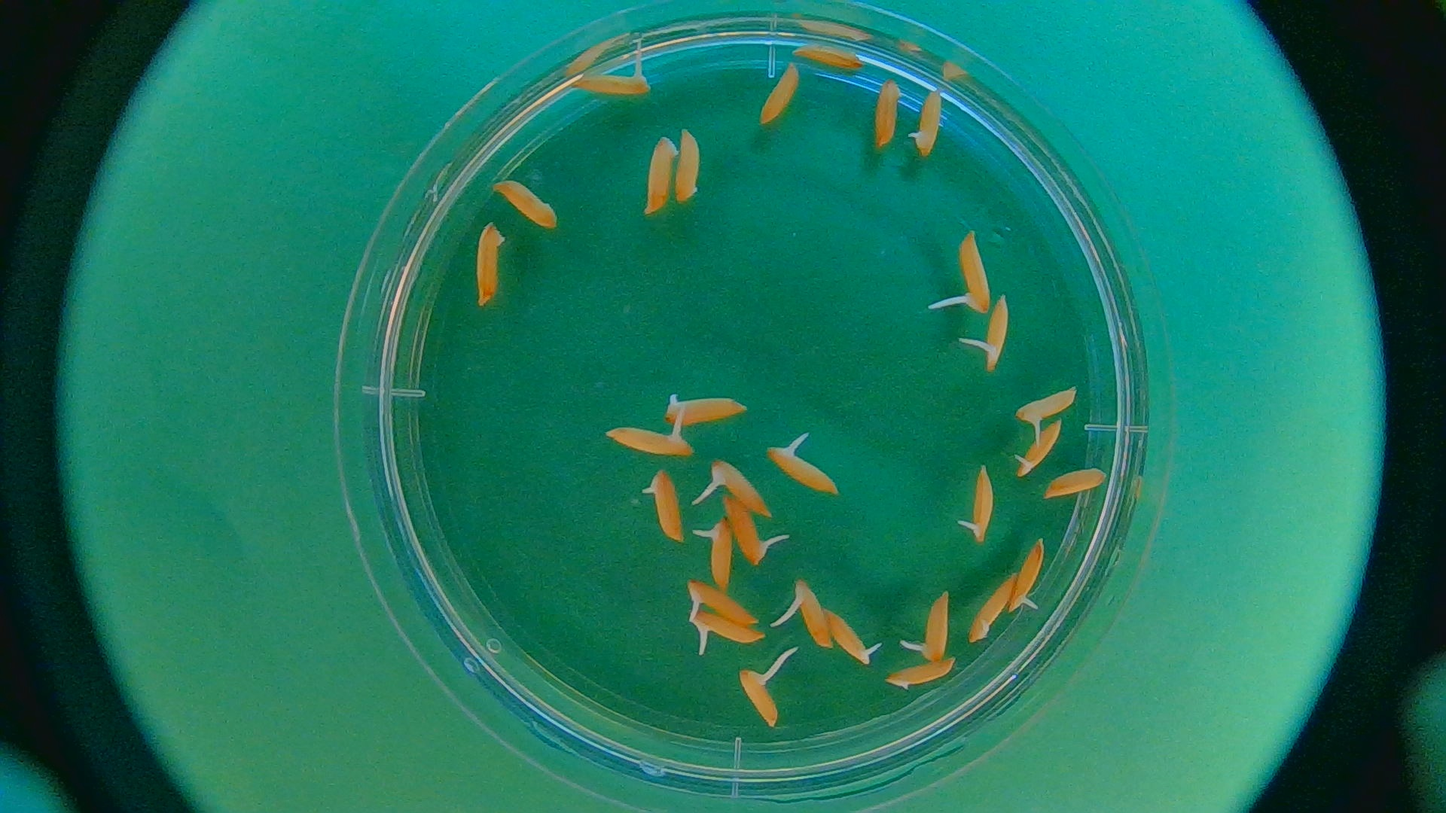no: (639, 132, 681, 216), (493, 182, 560, 231), (966, 570, 1012, 640), (664, 391, 748, 429), (475, 220, 507, 309), (760, 65, 800, 129), (885, 656, 956, 690), (676, 127, 704, 207), (793, 44, 862, 73), (872, 78, 901, 145), (1047, 467, 1108, 498)
yes: (765, 447, 840, 496), (709, 461, 775, 516), (1013, 416, 1060, 478), (734, 668, 781, 730), (687, 585, 758, 626), (649, 464, 686, 542), (726, 499, 769, 565), (687, 608, 763, 645), (1006, 537, 1045, 609), (823, 611, 870, 668), (792, 580, 832, 645), (616, 426, 697, 458), (906, 88, 943, 158), (959, 233, 992, 311), (1014, 385, 1079, 423), (574, 66, 650, 98), (917, 598, 951, 666), (982, 295, 1013, 367), (969, 464, 998, 537), (706, 516, 735, 586)
